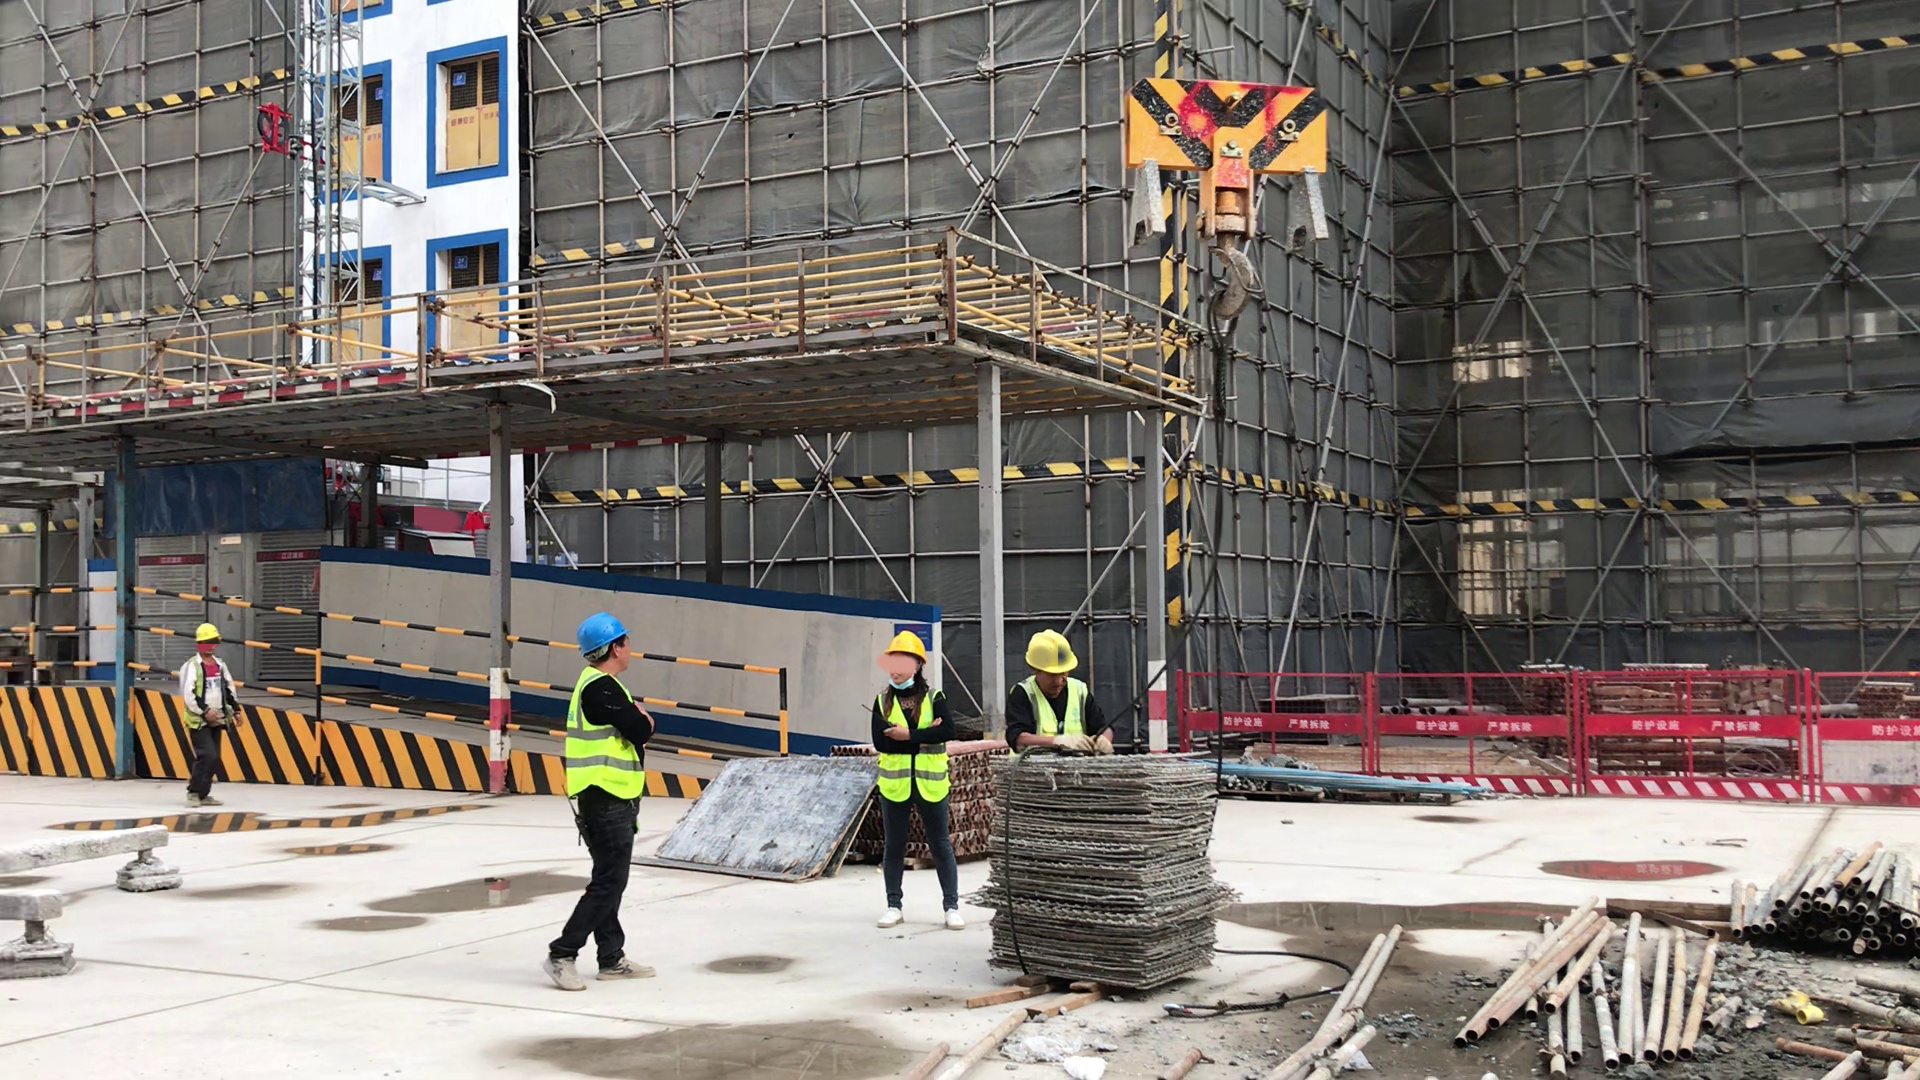fence: (1580, 656, 1920, 805), (247, 594, 482, 742), (1373, 667, 1571, 779), (1229, 665, 1365, 767), (669, 650, 800, 745), (14, 583, 114, 672)
helmet: (1025, 630, 1081, 674), (573, 617, 633, 654), (889, 630, 933, 664), (192, 622, 221, 642)
hook: (1117, 72, 1332, 322)
person: (545, 616, 662, 997), (871, 634, 969, 934), (1001, 631, 1126, 758), (178, 622, 245, 806)
scaffold: (1700, 839, 1920, 971)
slogan: (160, 551, 184, 564), (280, 551, 307, 561)
vest: (562, 665, 648, 804), (877, 683, 954, 805), (1011, 673, 1093, 756), (178, 656, 231, 731)
